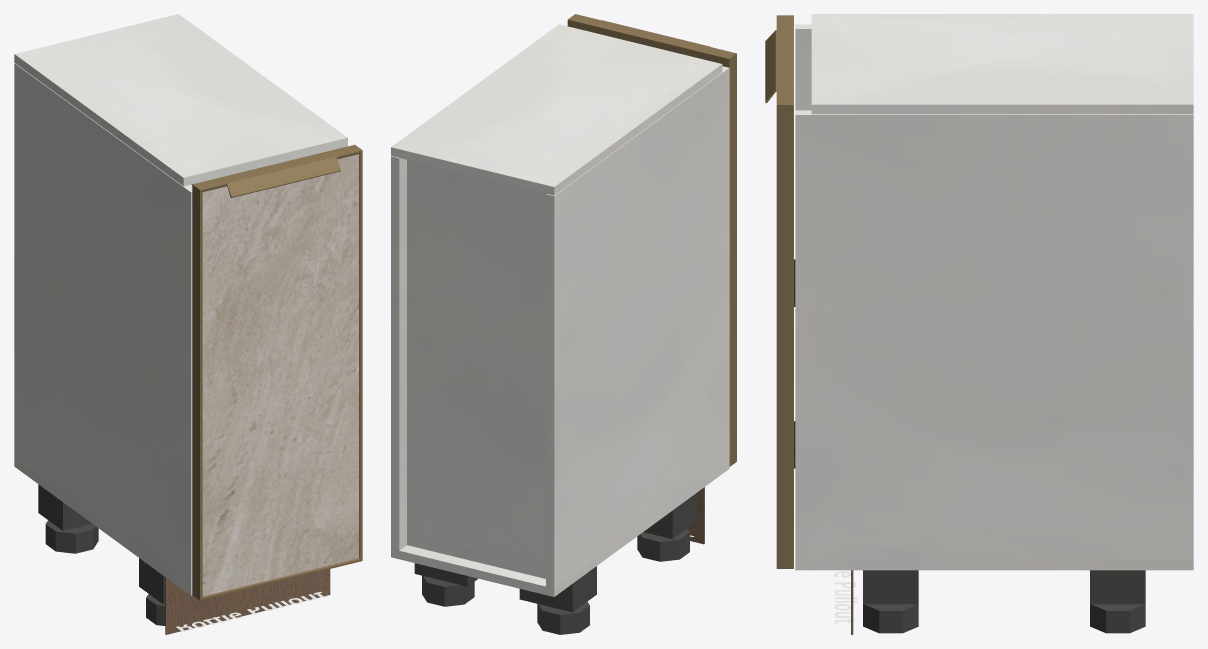
Rendered from BC-AC-TTS-ST-BPO-RHS-XXX-300-720-560-15.glb.
3 views of the same model, side by side, from view 1: azimuth 30°, elevation 25°; view 2: azimuth 150°, elevation 25°; view 3: azimuth 270°, elevation 25° (orthographic). The views are drawn at different scales.
Parts seen in each view (by area): view 1: TP_node, Object_node_29, TP_node_1, Object_node_31, Extrusion_node_4, ExtrSplGeo, TP, Extrusion_node_2, Foot, Plate, Plate_node_0, Extrusion_node_3 (+3 smaller); view 2: TP_node, TP_node_2, TP_node_1, TP_node_0, TP, Extrusion_node_4, ExtrSplGeo, Plate, Foot, Foot_node_0, Foot_node, Plate_node_0 (+3 smaller); view 3: TP_node_0, TP_node_1, Extrusion_node_2, TP, Plate_node, Plate_node_1, ExtrSplGeo, Foot_node, Foot_node_1, TP_node.
Part boxes in pixels (x1,y1,x2,y2): TP_node: [14, 63, 192, 586]; Object_node_29: [202, 154, 358, 596]; TP_node_1: [14, 14, 347, 186]; Object_node_31: [165, 569, 330, 634]; Extrusion_node_4: [192, 184, 202, 600]; ExtrSplGeo: [219, 151, 340, 197]; TP: [14, 458, 192, 595]; Extrusion_node_2: [359, 150, 362, 560]; Foot: [45, 520, 98, 553]; Plate: [38, 484, 92, 530]; Plate_node_0: [139, 558, 165, 604]; Extrusion_node_3: [200, 558, 361, 600]; TP_node: [546, 66, 729, 588]; TP_node_2: [407, 160, 546, 578]; TP_node_1: [391, 24, 722, 195]; TP_node_0: [391, 156, 406, 550]; TP: [391, 460, 729, 596]; Extrusion_node_4: [722, 53, 736, 466]; ExtrSplGeo: [594, 20, 710, 59]; Plate: [519, 566, 596, 612]; Foot: [537, 601, 589, 634]; Foot_node_0: [637, 528, 689, 561]; Foot_node: [422, 575, 474, 606]; Plate_node_0: [643, 493, 696, 539]; TP_node_0: [795, 110, 1193, 560]; TP_node_1: [811, 14, 1193, 114]; Extrusion_node_2: [776, 105, 793, 568]; TP: [795, 560, 1193, 570]; Plate_node: [1090, 570, 1145, 604]; Plate_node_1: [863, 570, 918, 604]; ExtrSplGeo: [765, 30, 793, 103]; Foot_node: [1090, 604, 1145, 633]; Foot_node_1: [863, 604, 918, 633]; TP_node: [795, 24, 811, 110].
Size of what is drawn, in the model's own units: 0.3 by 0.82 by 0.6.
9 materials, 3 textured.
